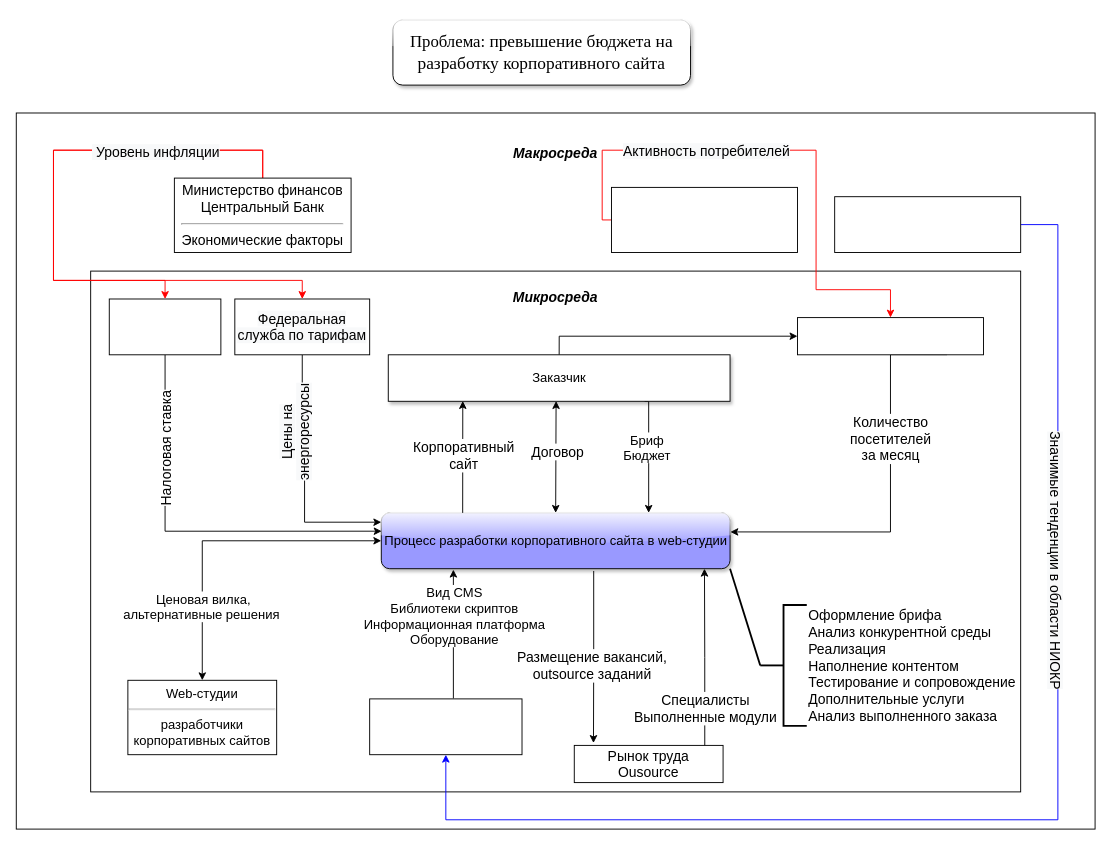
Image size: 1111x845. Some labels were removed from this diagram. Each missing label, with the centre of its shape:
"Интернет-аудитория Социальный фактор" belongs at (704,219).
"НИИ Технологический фактор" belongs at (927,224).
"Технологические и производственные ресурсы" belongs at (445,726).
"Федеральная налоговая служба России" belongs at (164,326).
"Целевая аудитория" belongs at (890,336).
